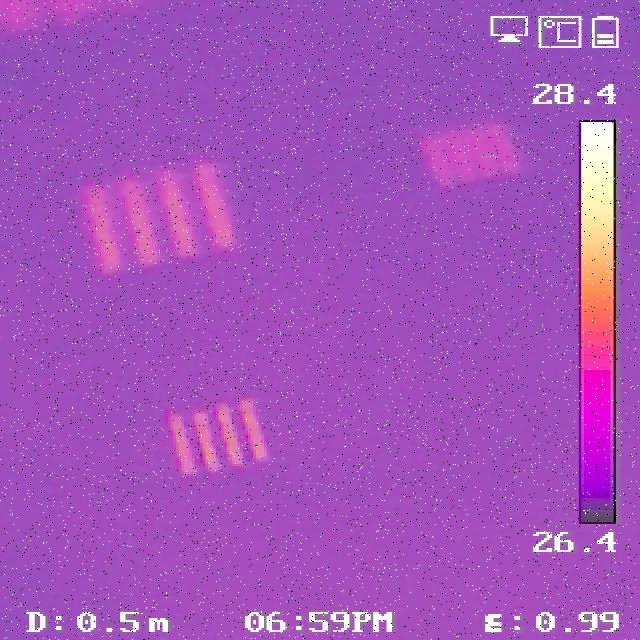Distinguishable 4-bar target: (79, 158, 248, 270), (165, 395, 268, 473)
threshold 4-bar target: (420, 119, 523, 185)
